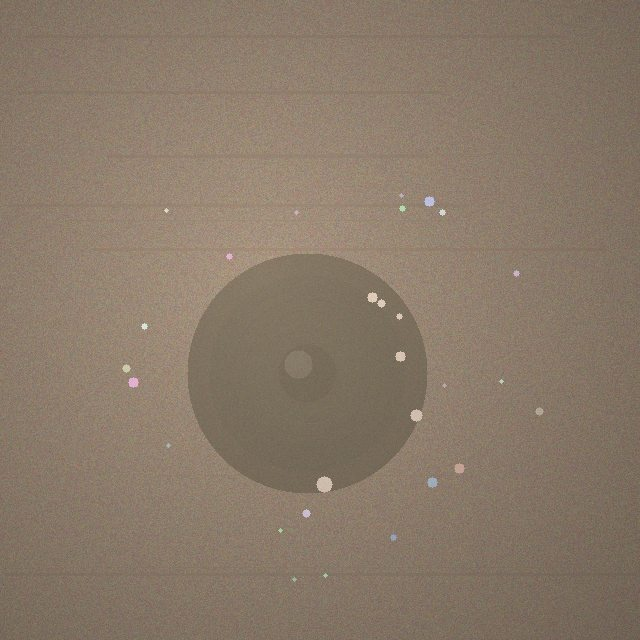overburn: (187, 253, 427, 493)
